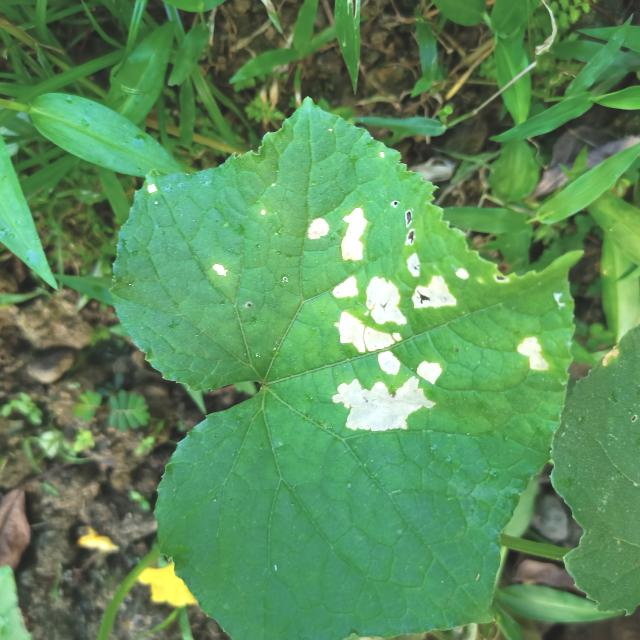disease_cucumber: (303, 195, 461, 436), (512, 320, 553, 380), (210, 259, 234, 279)
